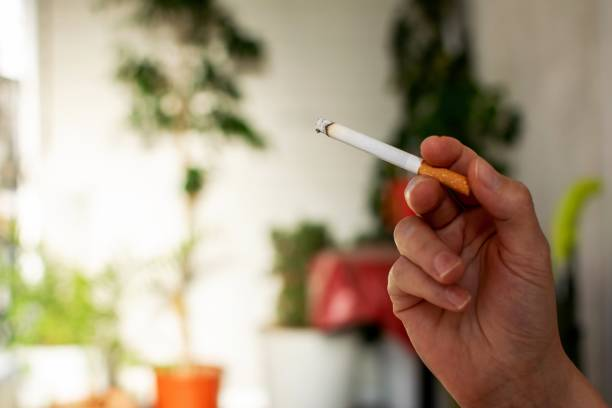cigarette: (315, 118, 474, 198)
